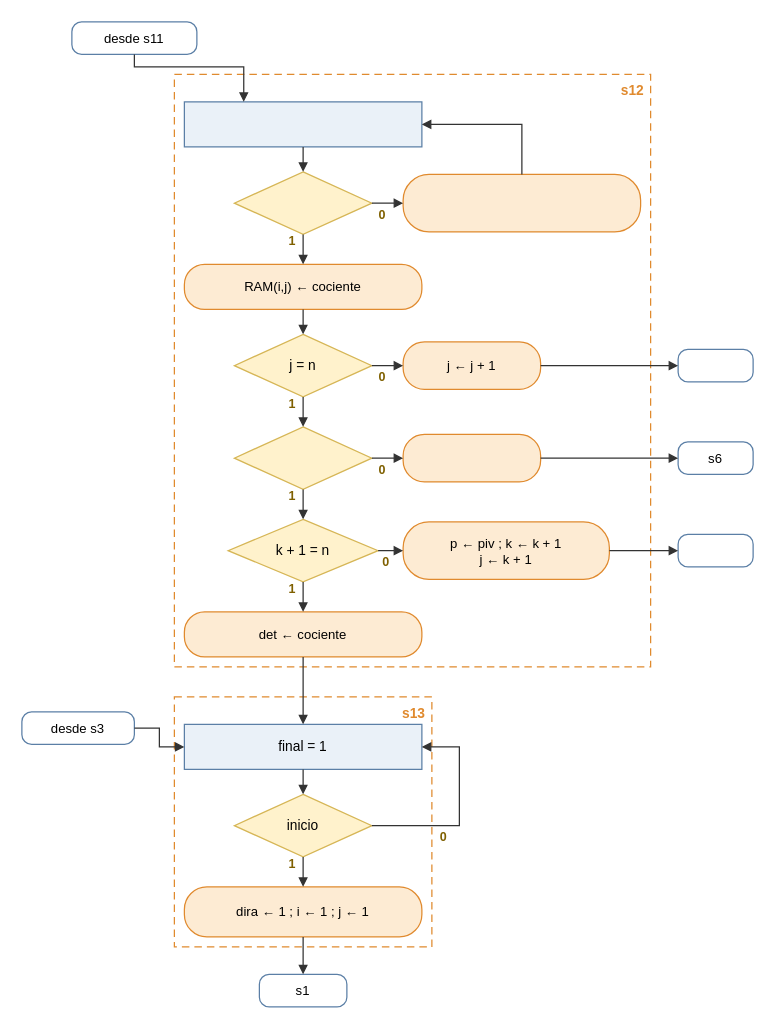
The diagram is 775 pixels wide and 1029 high, and some of its shapes have lost their labels. The centre of each missing label's shape, as x and y in pixels:
"división por restas sucesivas" belongs at (x=302, y=124).
"i = n" belongs at (x=302, y=457).
"i ← i + 1 j ← k" belongs at (x=471, y=457).
"r = t" belongs at (x=302, y=202).
"r ← r − s cociente ← cociente ± 1" belongs at (x=521, y=202).
"s2" belongs at (x=715, y=550).
"s7" belongs at (x=715, y=365).
